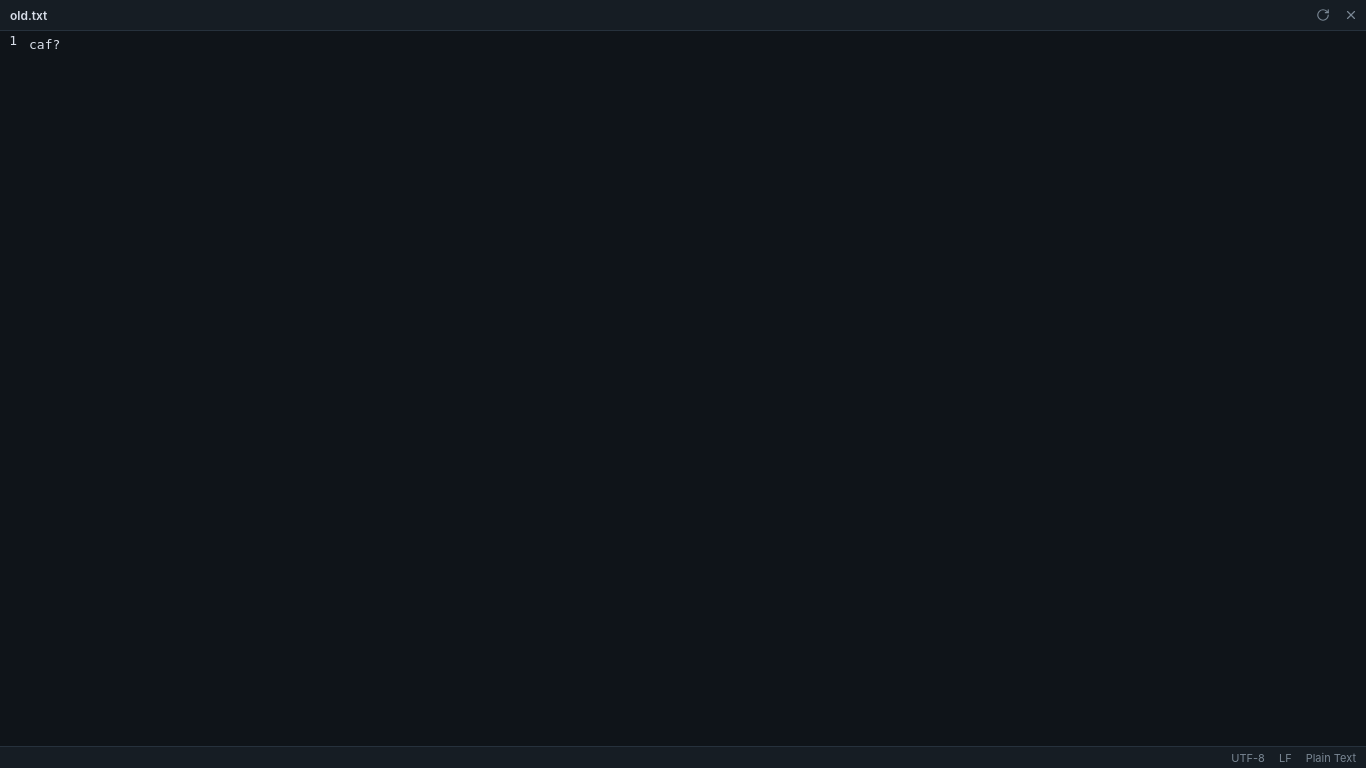
Scenario: FileViewer status bar: encoding, line endings and language › reopens the file with another encoding
What coordinates should you click on to do the following:
click the button "UTF-8"
I would click on:
 (1248, 758)
Its box is [1231,750,1265,764].
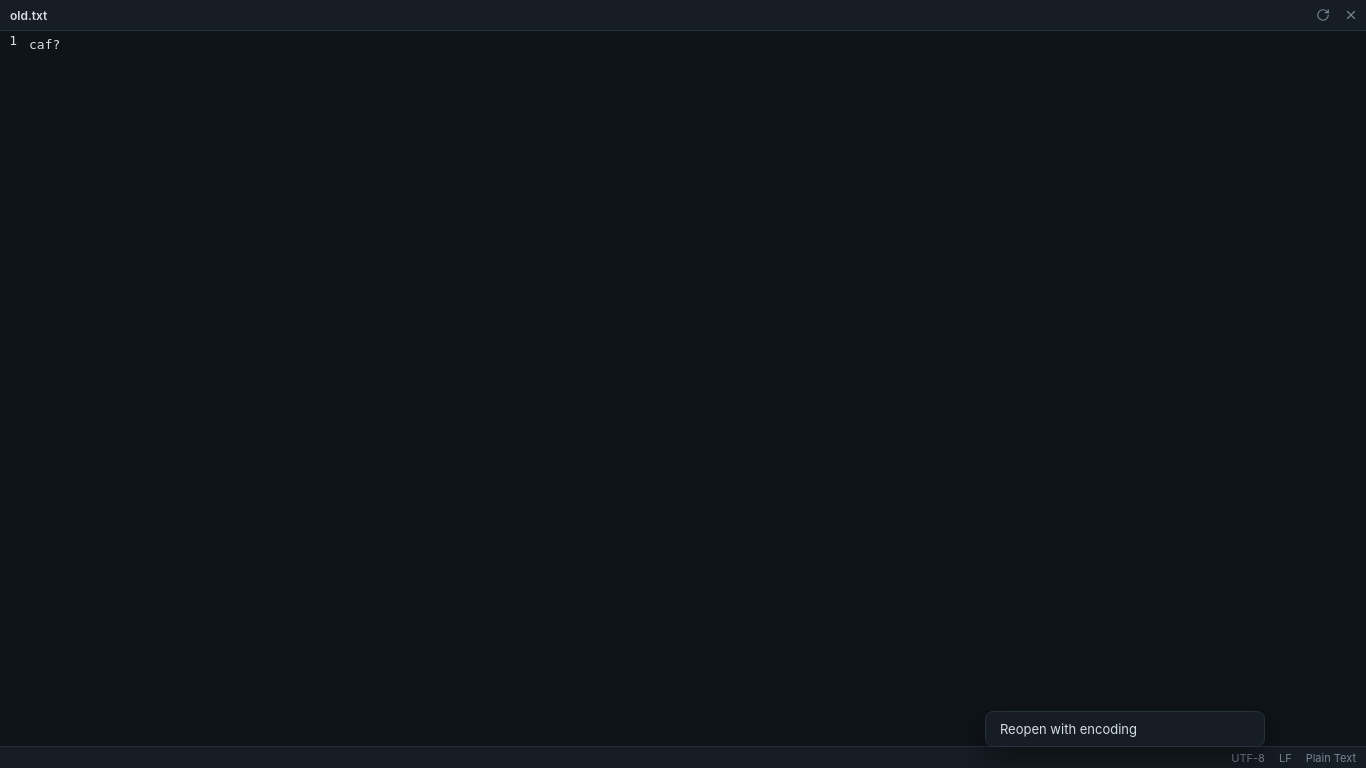
What coordinates should you click on to do the following:
click the option "Reopen with encoding"
I would click on:
 (1125, 728)
Its box is [990,716,1260,742].
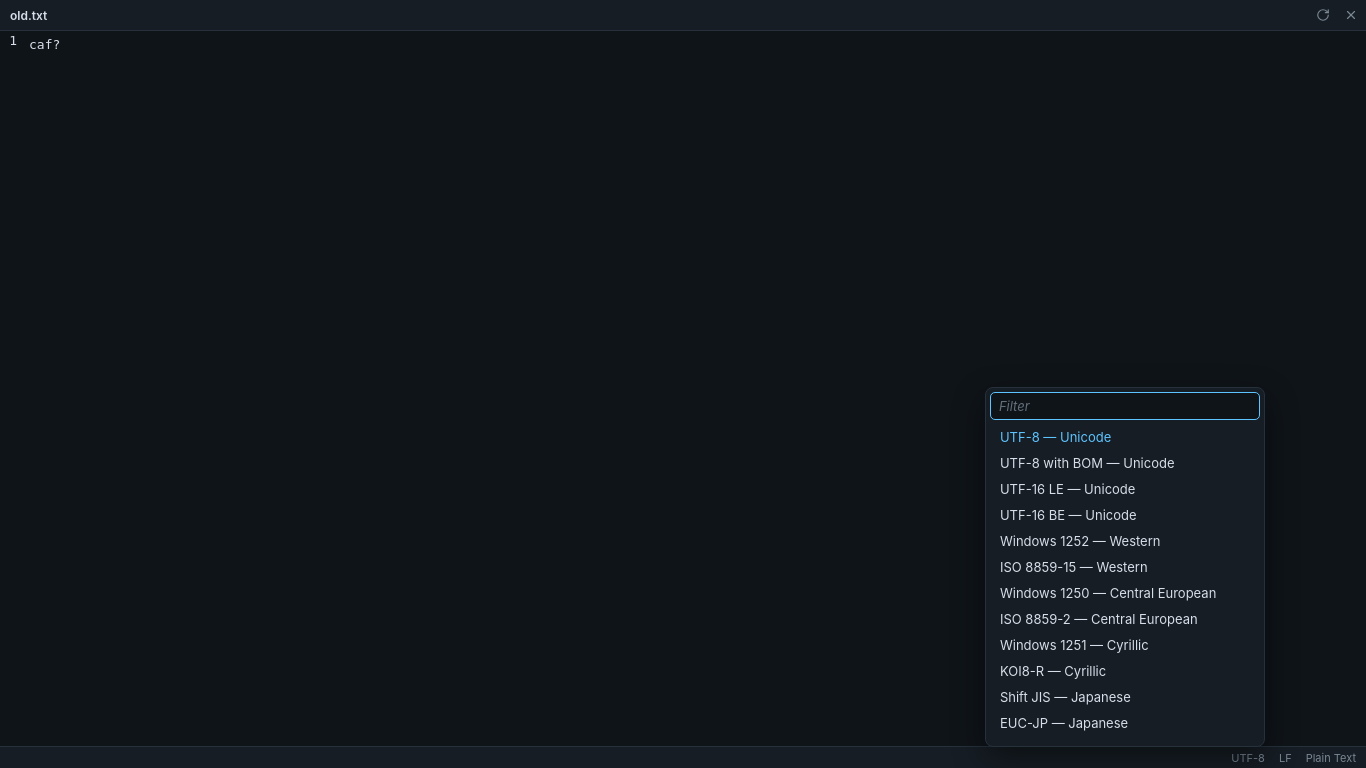
What coordinates should you click on to do the following:
click the option "Windows 1252 — Western"
I would click on:
 (1125, 540)
Its box is [990,528,1260,554].
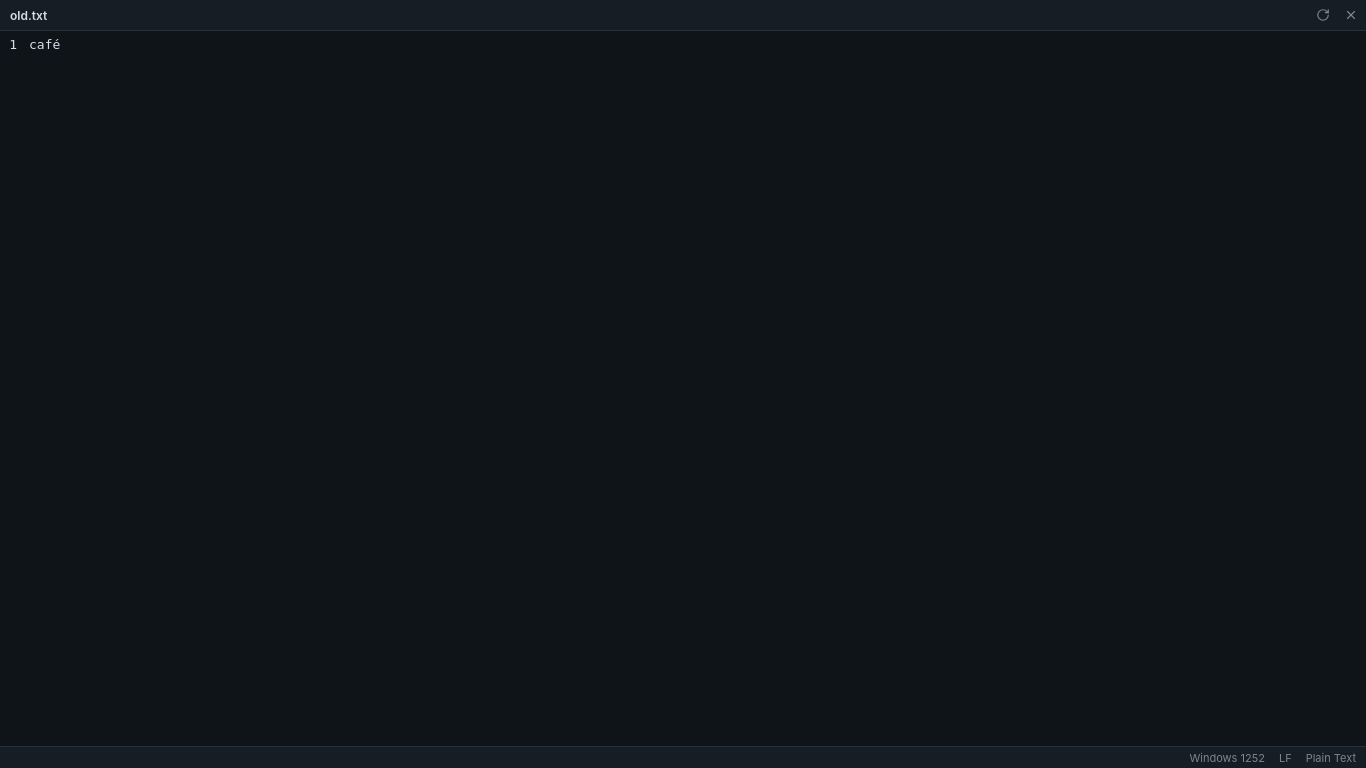
Expected: the text box labelled "café" is shown, [29,37,60,52]
Expected: the button "Windows 1252" is shown, [1190,750,1265,764]
